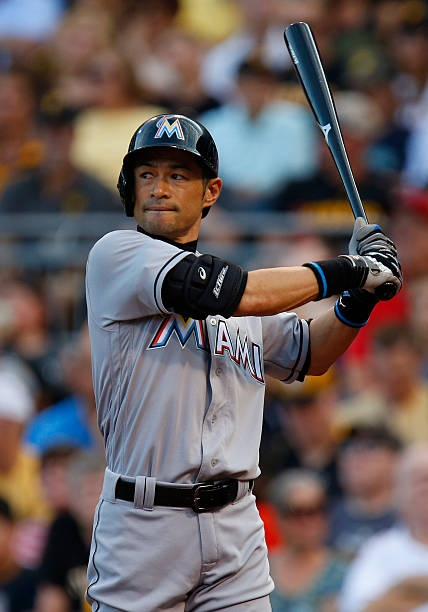bita: (279, 11, 376, 263)
